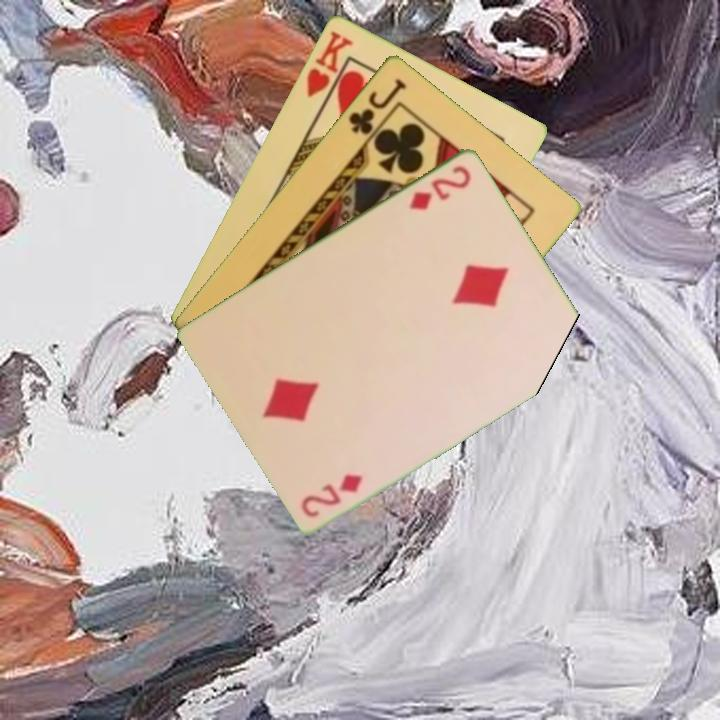2d: (406, 161, 474, 213), (297, 469, 366, 520)
Jc: (345, 73, 409, 138)
Kh: (302, 26, 356, 110)
